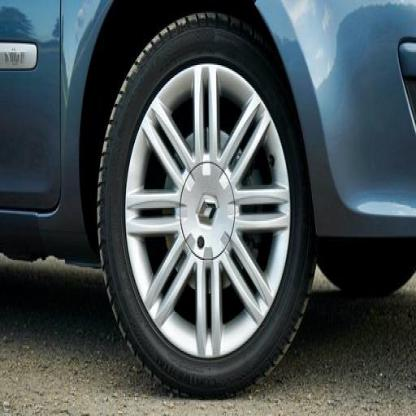Tire: (94, 12, 318, 400)
